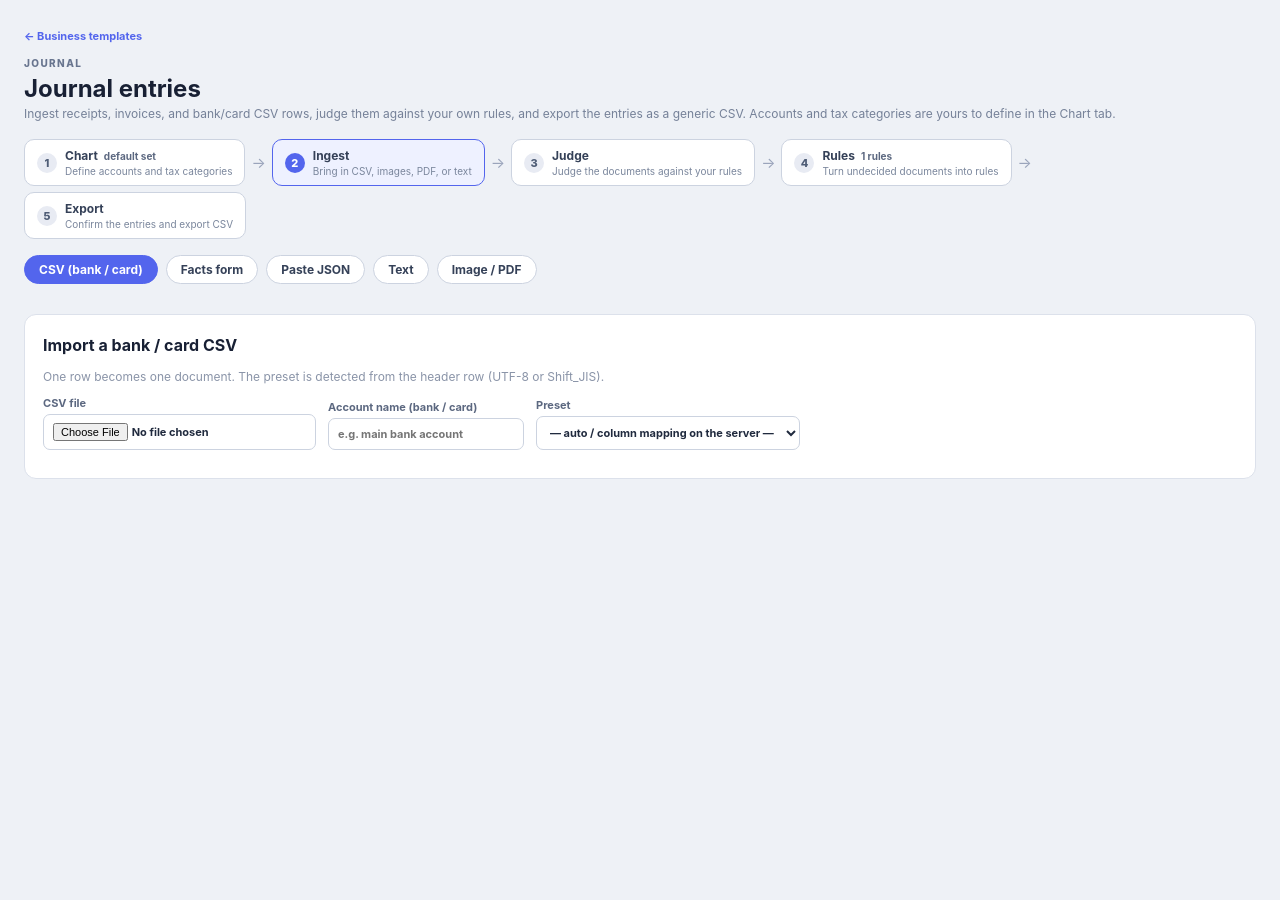
Test: JournalPage › 正常: 取込 / 判定 / ルール / 科目 / 出力の 5 サブタブを切り替えて表示する
Check: the heading "Import a bank / card CSV" is shown, box top-left (43, 335), bottom-right (237, 355)
Click the tab "Judge" at (633, 162), box top-left (511, 139), bottom-right (755, 186)
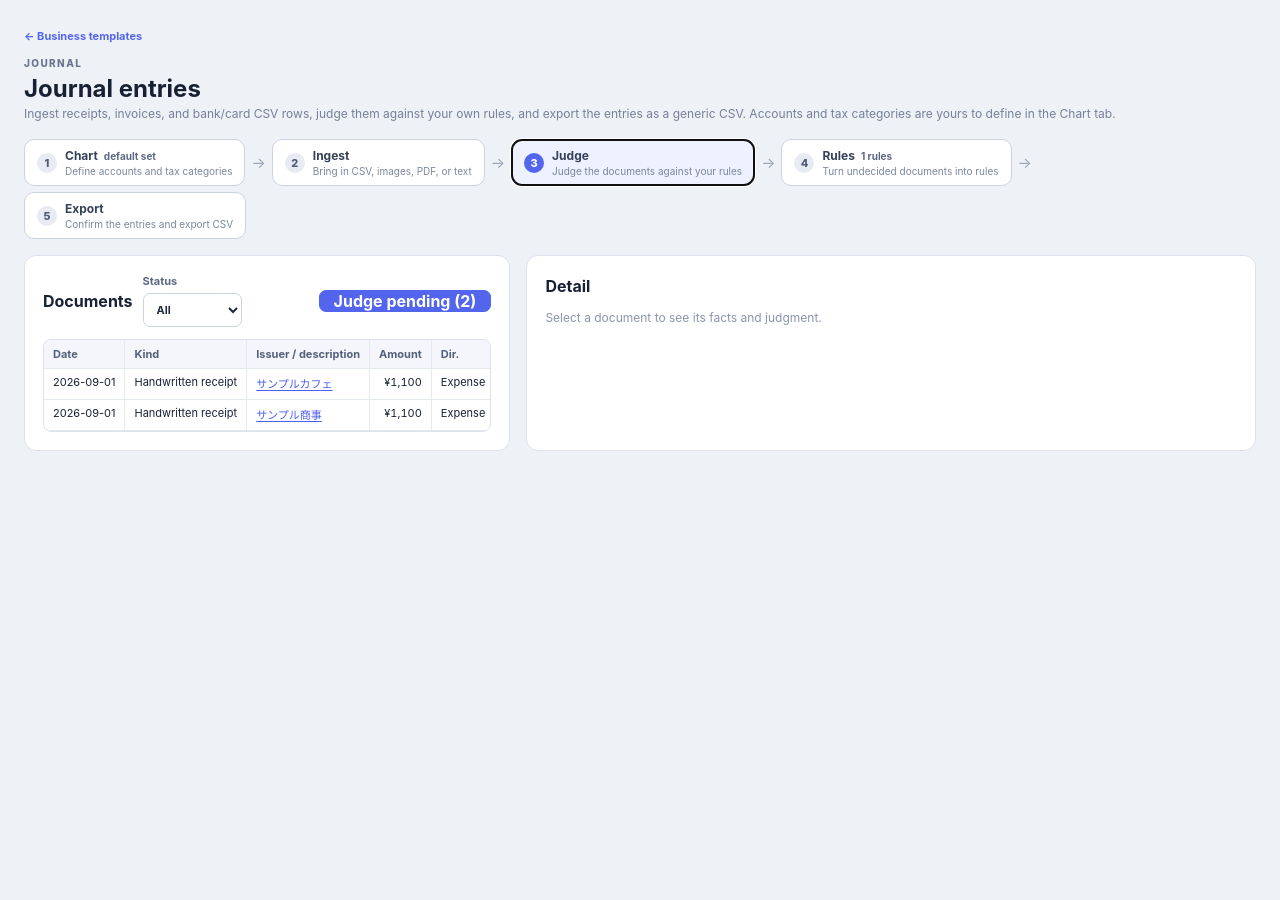
Check: the heading "Documents" is shown, box top-left (43, 290), bottom-right (132, 310)
Click the tab "Rules" at (896, 162), box top-left (781, 139), bottom-right (1012, 186)
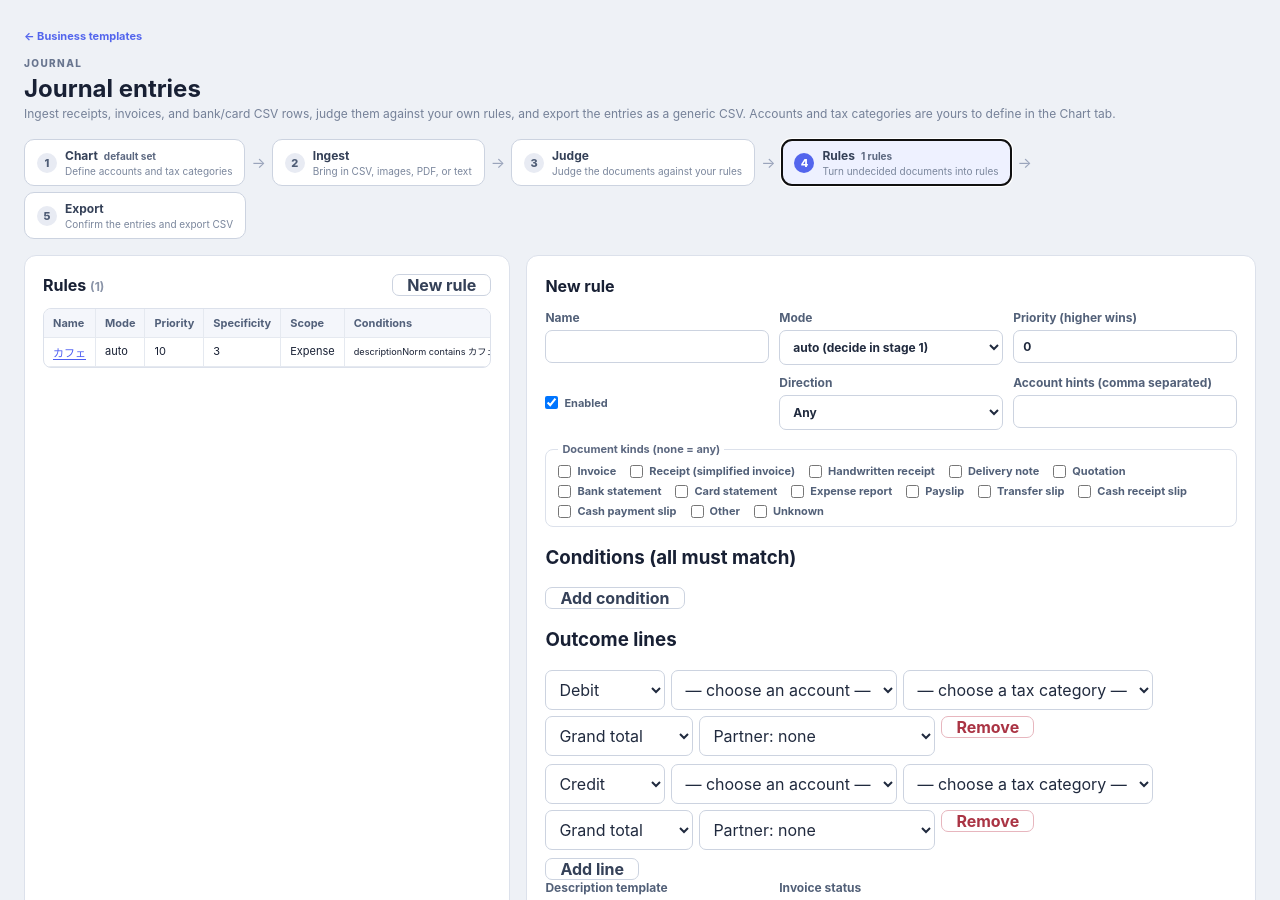
Check: the heading "Rules (1)" is shown, box top-left (43, 275), bottom-right (104, 295)
Click the tab "Chart" at (135, 162), box top-left (24, 139), bottom-right (246, 186)
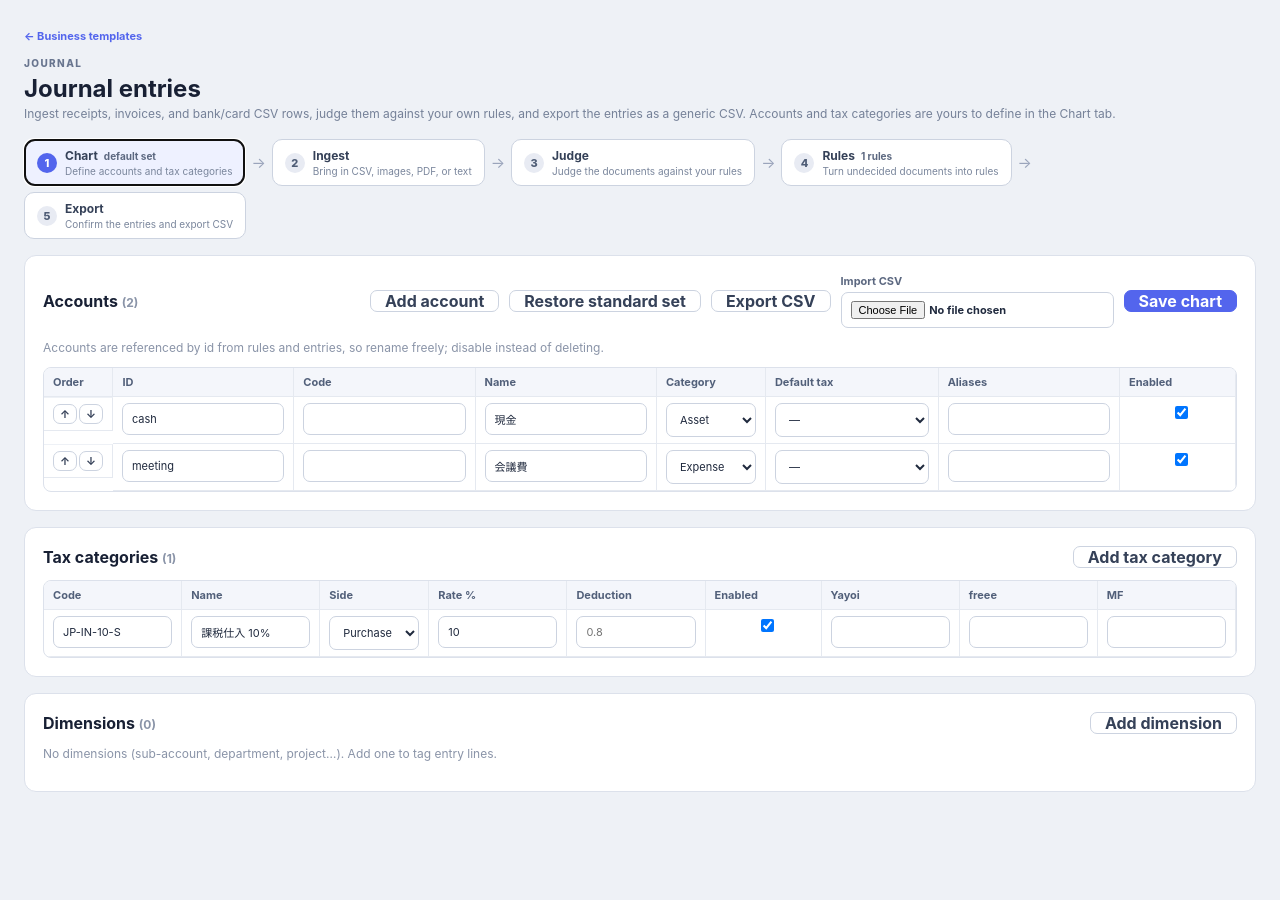
Check: the heading "Accounts (2)" is shown, box top-left (43, 291), bottom-right (138, 311)
Click the tab "Export" at (135, 216), box top-left (24, 192), bottom-right (246, 239)
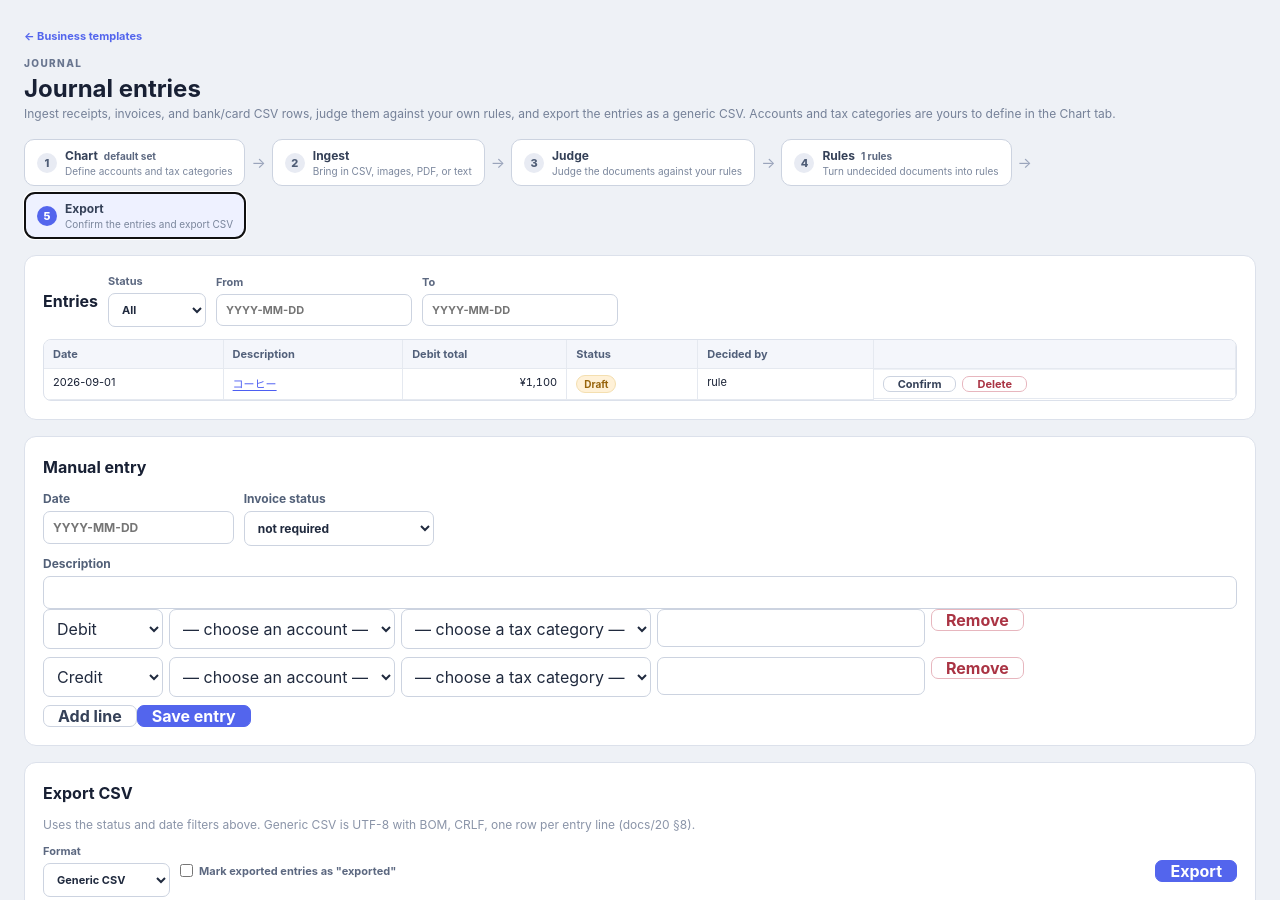
Check: the heading "Entries" is shown, box top-left (43, 290), bottom-right (98, 310)
